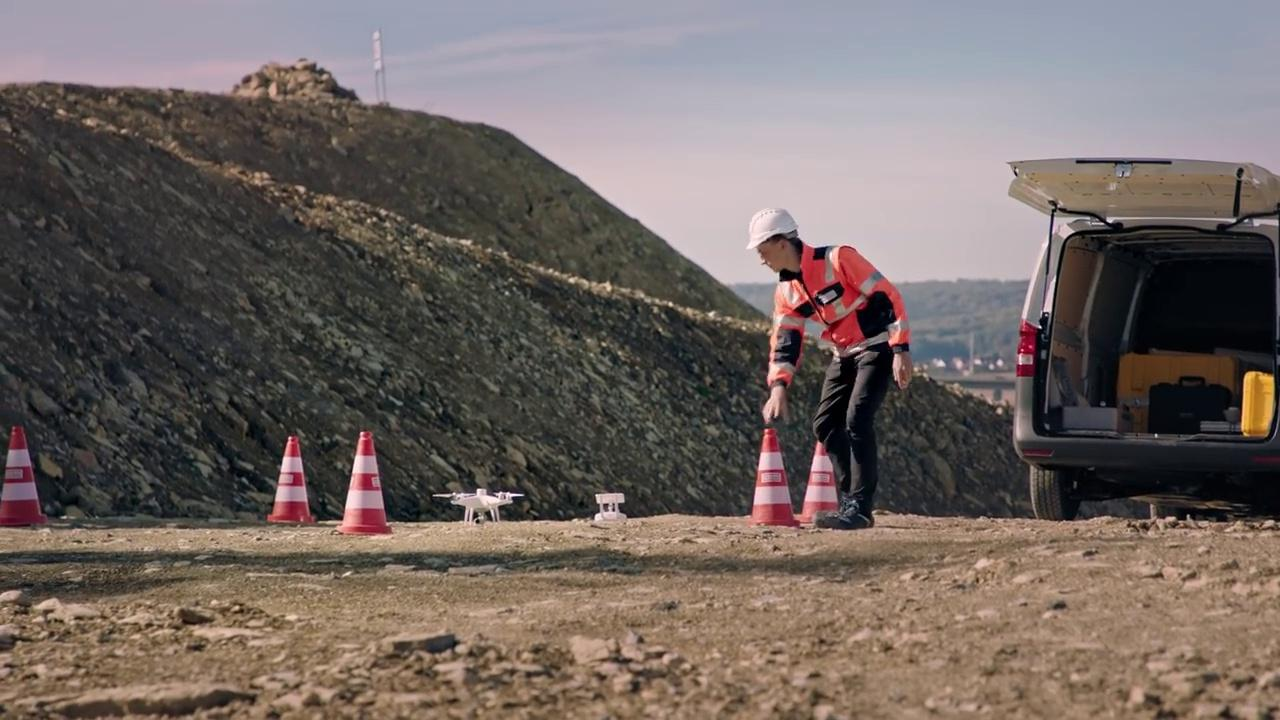drone: (433, 487, 522, 523)
